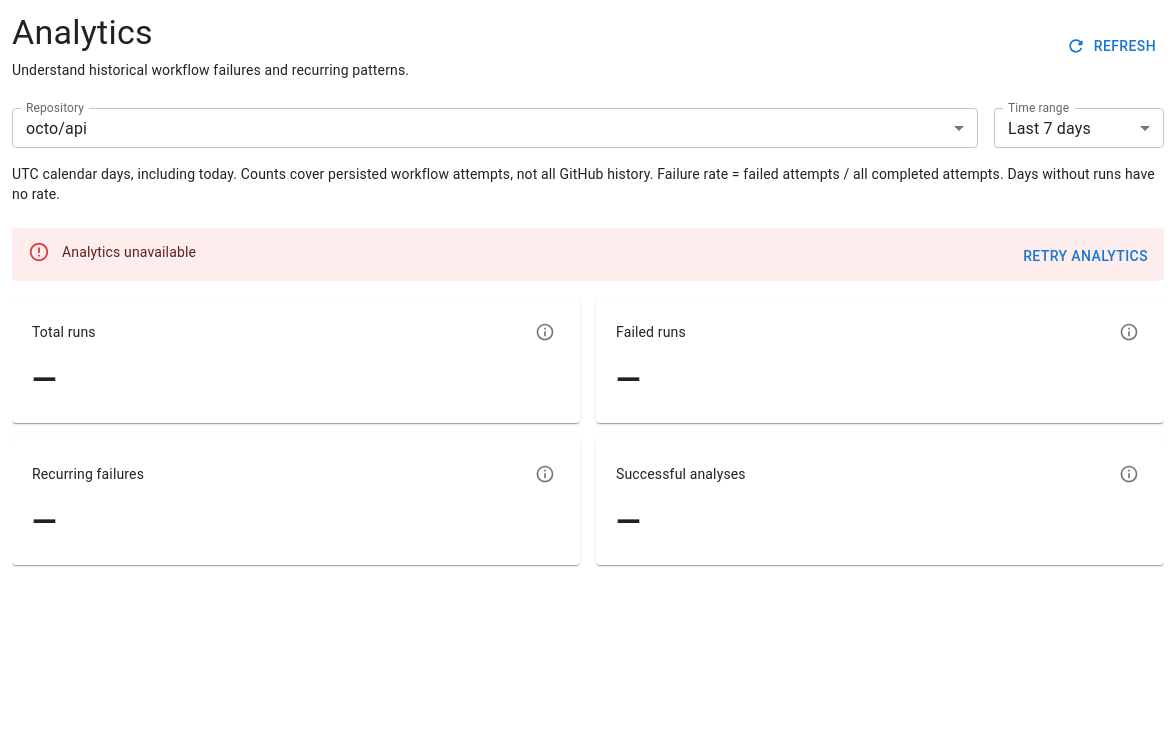
it: analytics dashboard › surfaces errors, retries explicitly and retains aggregates on refresh errors
The image size is (1176, 732).
Expected: the text "Analytics unavailable" is shown, 62,244 -> 196,260
Expected: the text "0" is not shown
Step 1. Click the button "Retry analytics" → click(1086, 256), box 1015,238 -> 1156,274
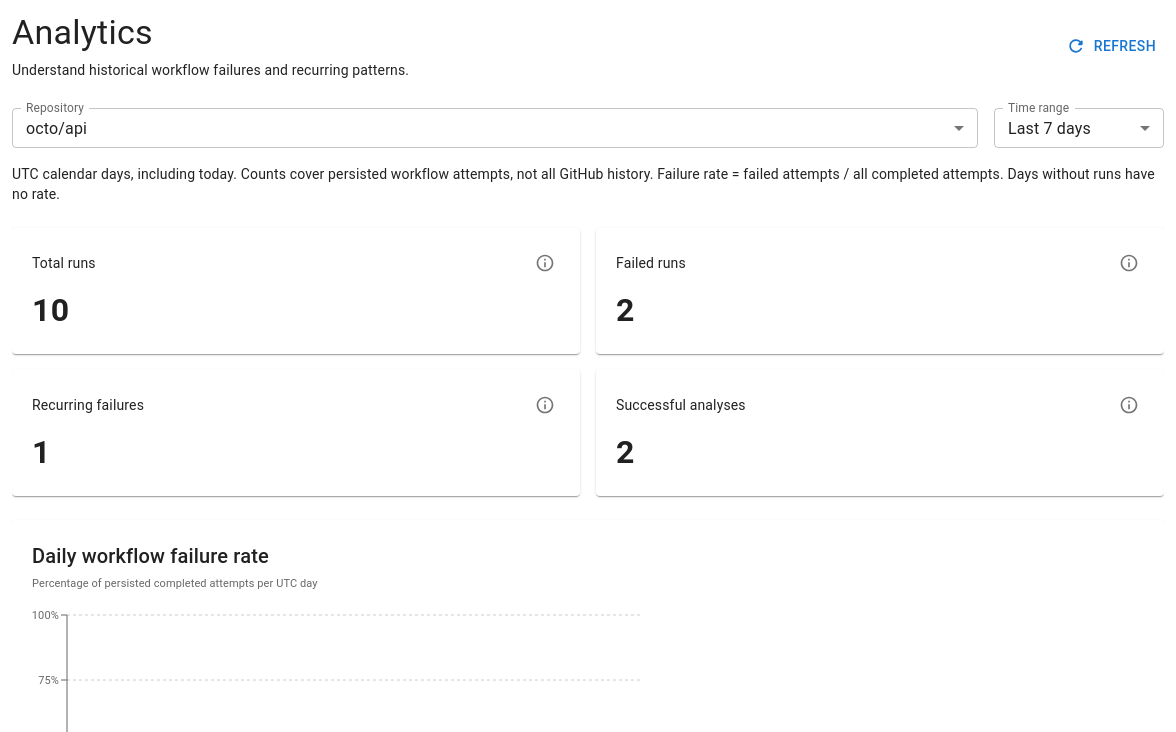
Result: the text "10" is shown at 32,291 -> 69,329
Step 2. Click the button "Refresh" → click(1113, 46), box 1062,28 -> 1164,64
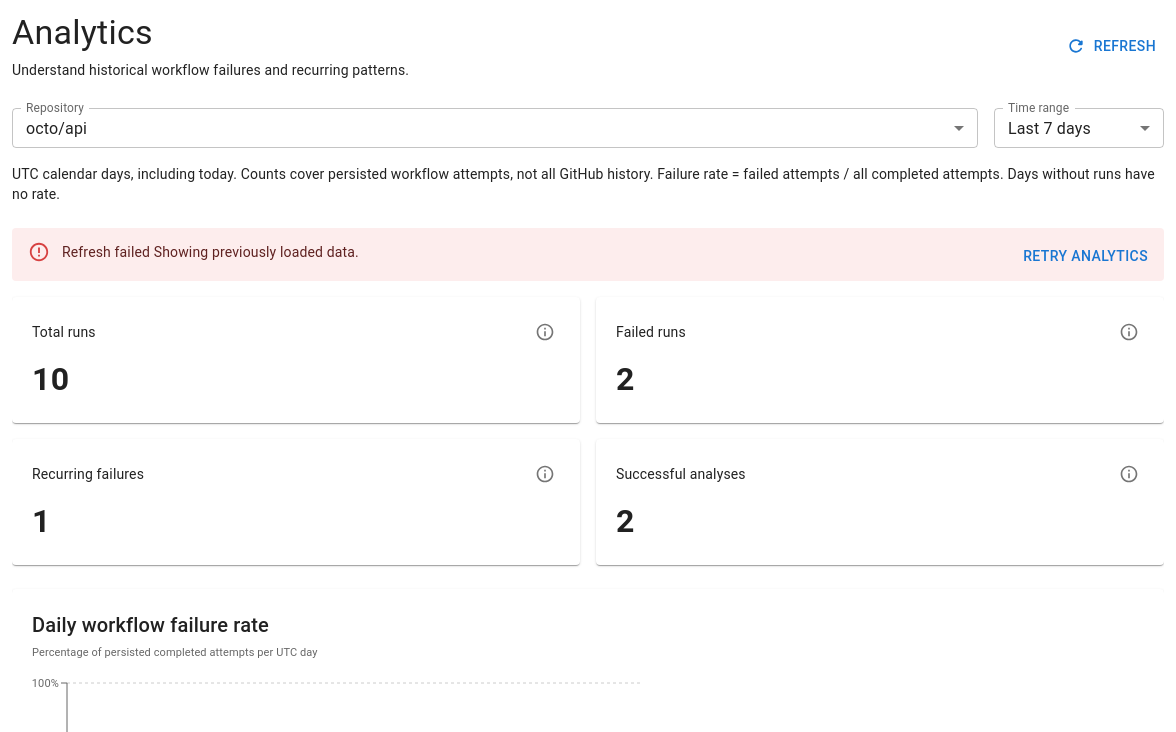
Result: the text "10" is shown at 32,360 -> 69,398
Result: the text "Refresh failed Showing previously loaded data." is shown at 62,244 -> 359,260
